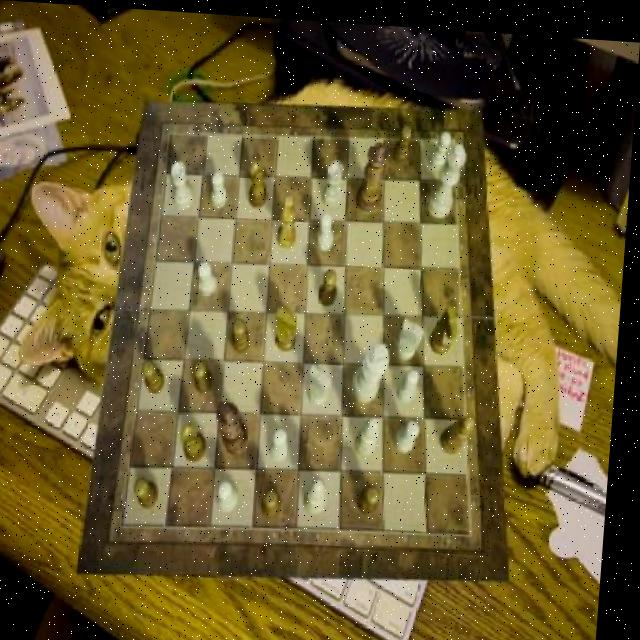bishop: (445, 408, 481, 449), (280, 191, 302, 246)
black-bishop: (220, 397, 256, 453)
black-king: (432, 301, 464, 350), (278, 303, 304, 348)
black-knight: (145, 356, 170, 391), (140, 475, 167, 507), (197, 356, 220, 392), (394, 120, 414, 160), (363, 479, 386, 511), (322, 264, 341, 301), (237, 315, 256, 351), (269, 485, 288, 515)
black-pawn: (358, 136, 392, 212)
black-queen: (185, 420, 215, 459), (249, 157, 272, 205)
black-rook: (361, 411, 386, 452), (311, 473, 335, 512)
white-bishop: (356, 337, 396, 399)
white-king: (400, 313, 429, 356), (312, 361, 337, 402)
white-knight: (429, 126, 453, 167), (401, 413, 427, 448), (401, 362, 423, 399), (201, 259, 223, 294), (319, 208, 338, 248), (277, 423, 298, 458), (224, 478, 245, 512), (213, 169, 232, 206)
white-pawn: (429, 136, 469, 213)
white-queen: (170, 159, 198, 208), (323, 156, 346, 205)
